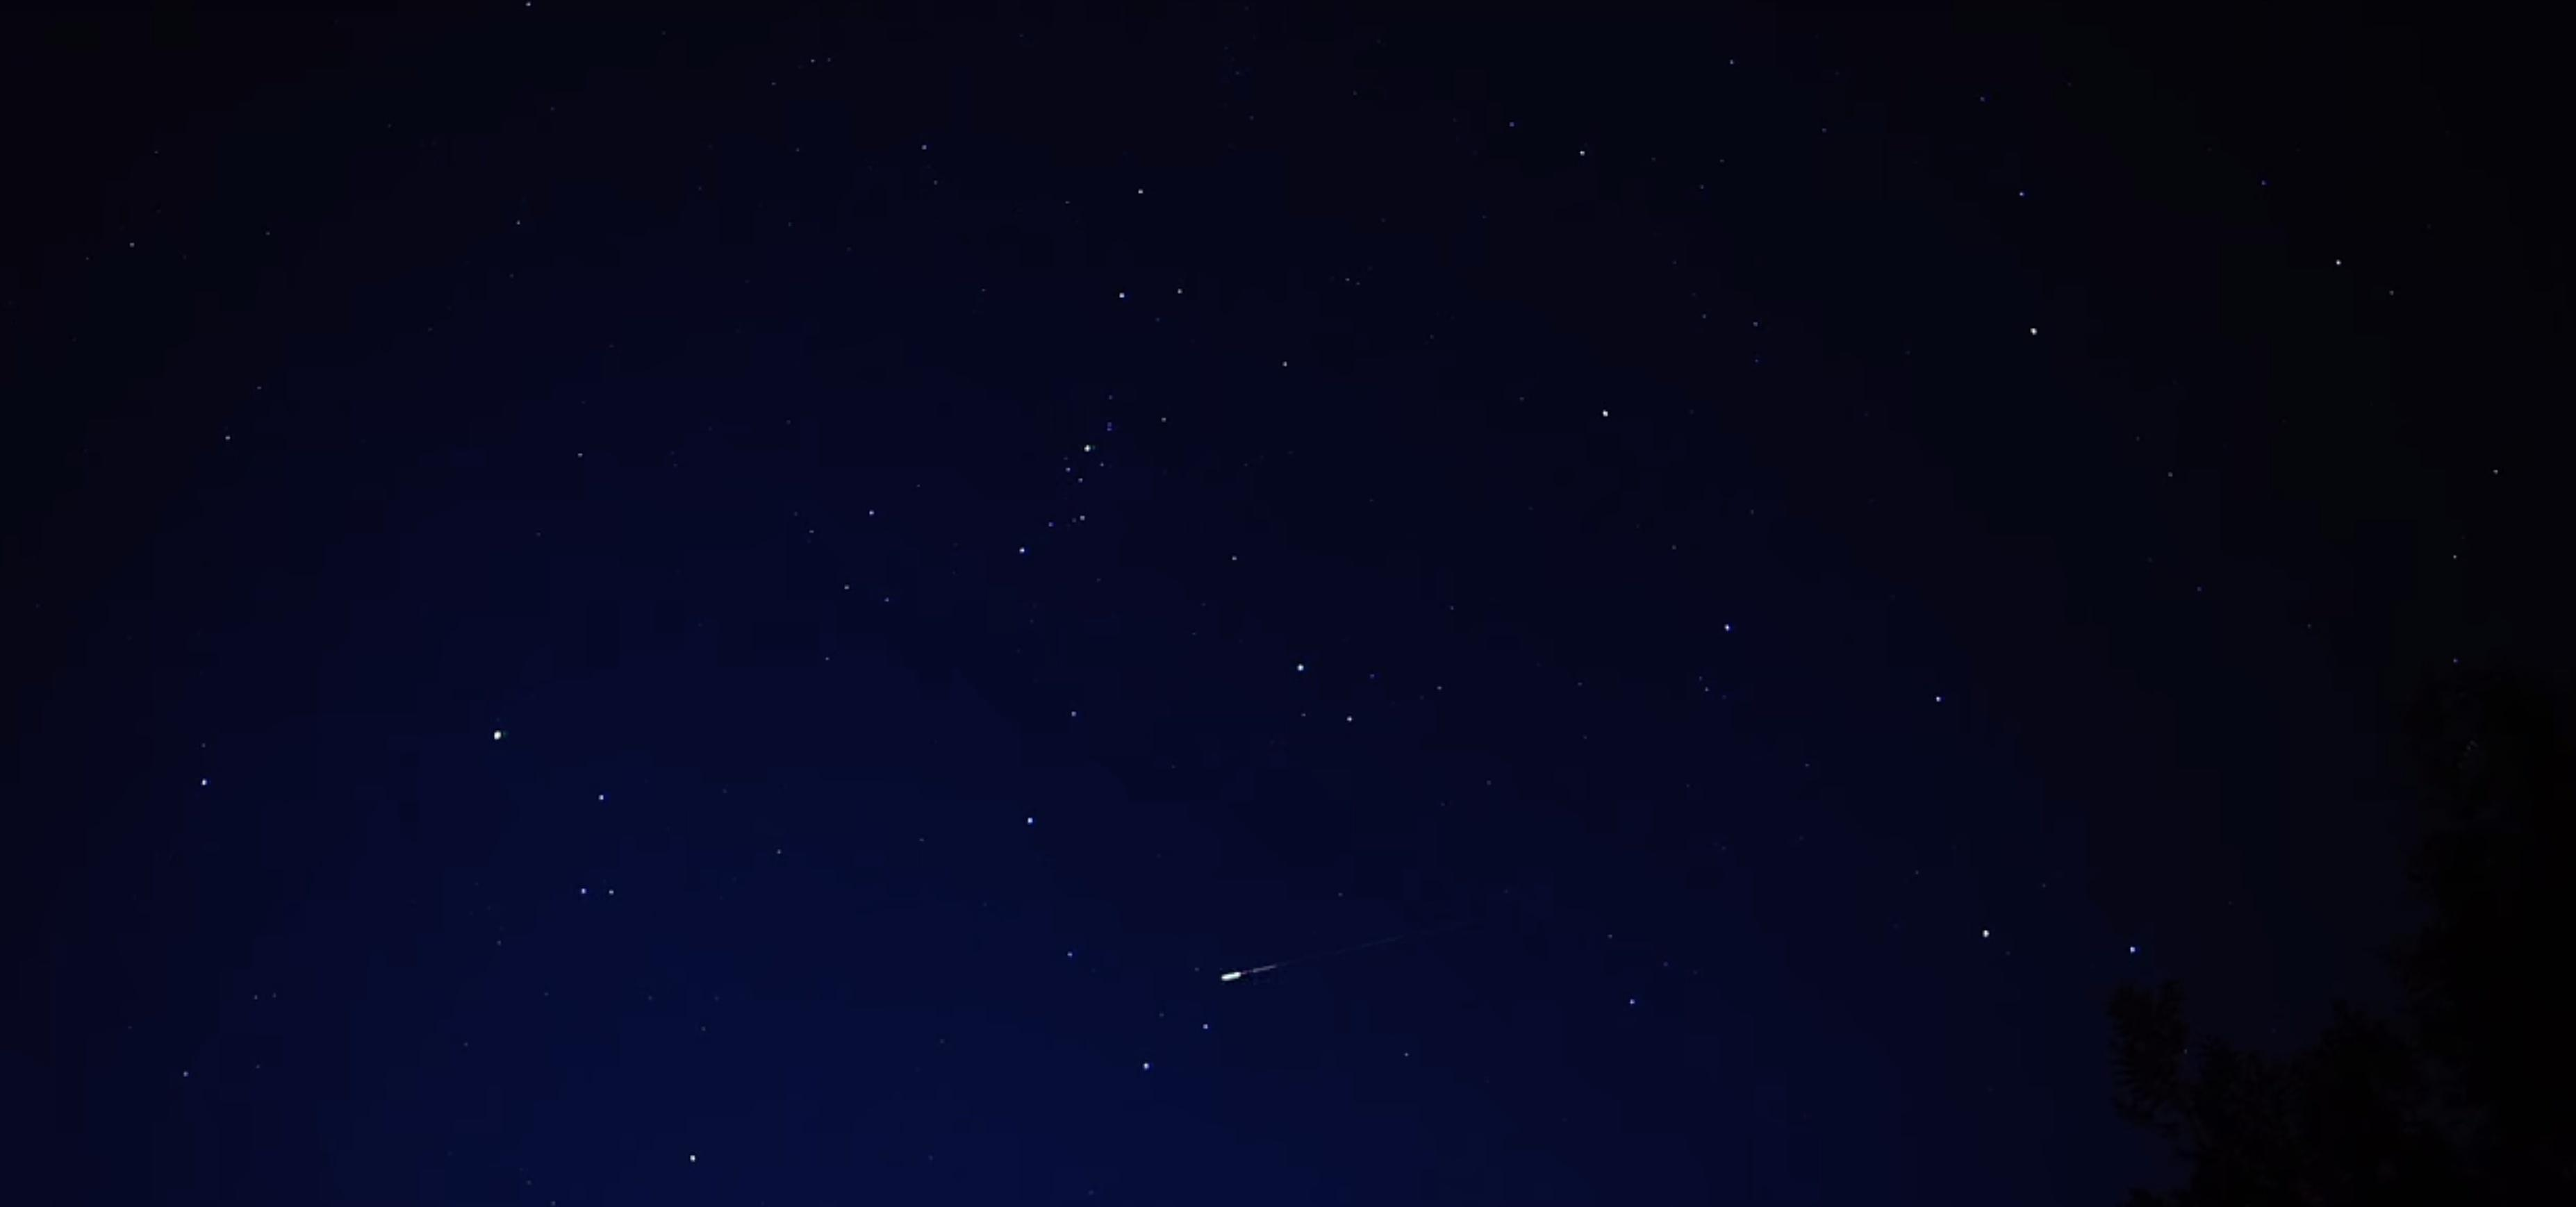meteorite: (1168, 906, 1457, 995)
